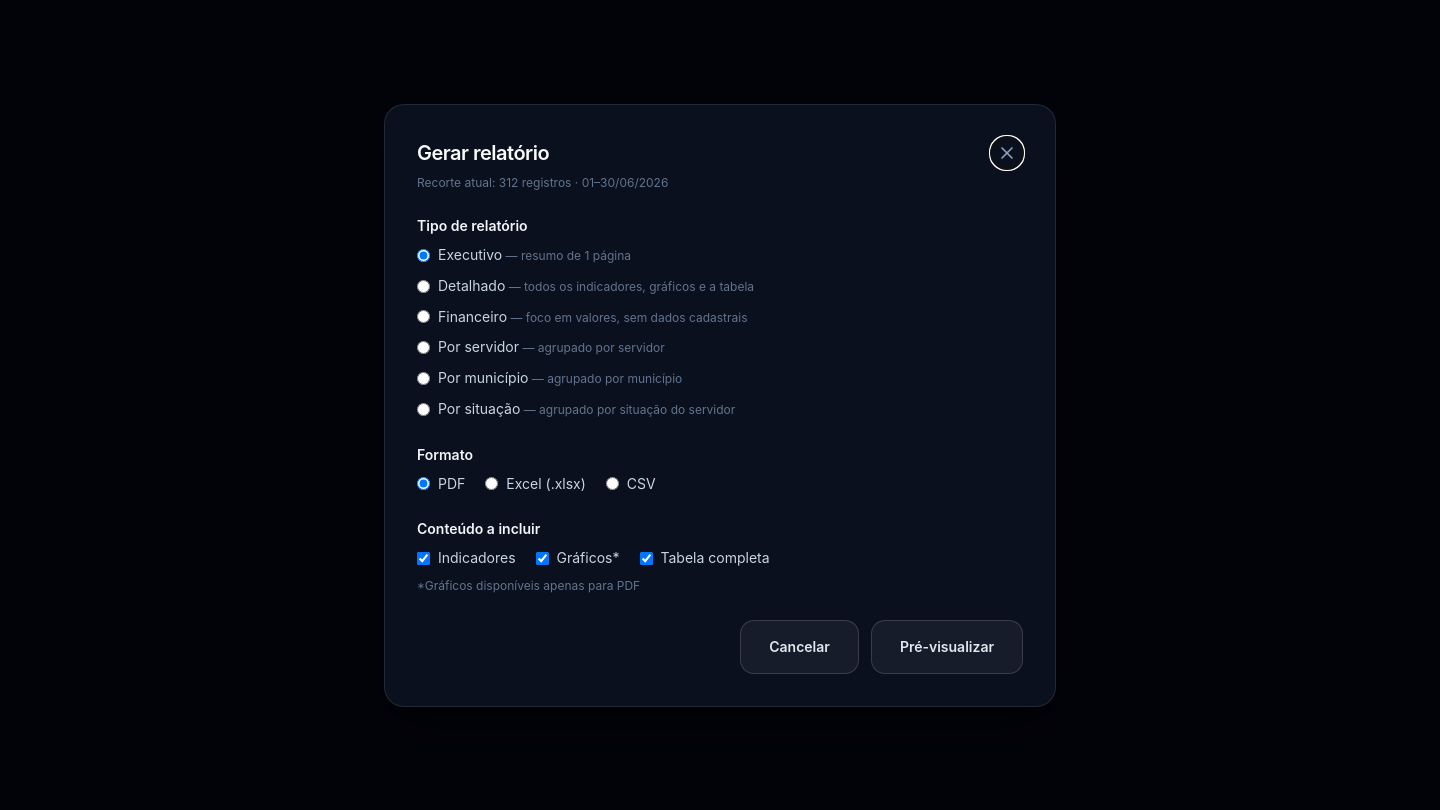
Scenario: ModalRelatorio › clicar num tipo disponível troca a seleção
Click the radio button labelled "Financeiro — foco em valores, sem dados cadastrais": click(424, 317) x1=417 y1=310 x2=430 y2=323
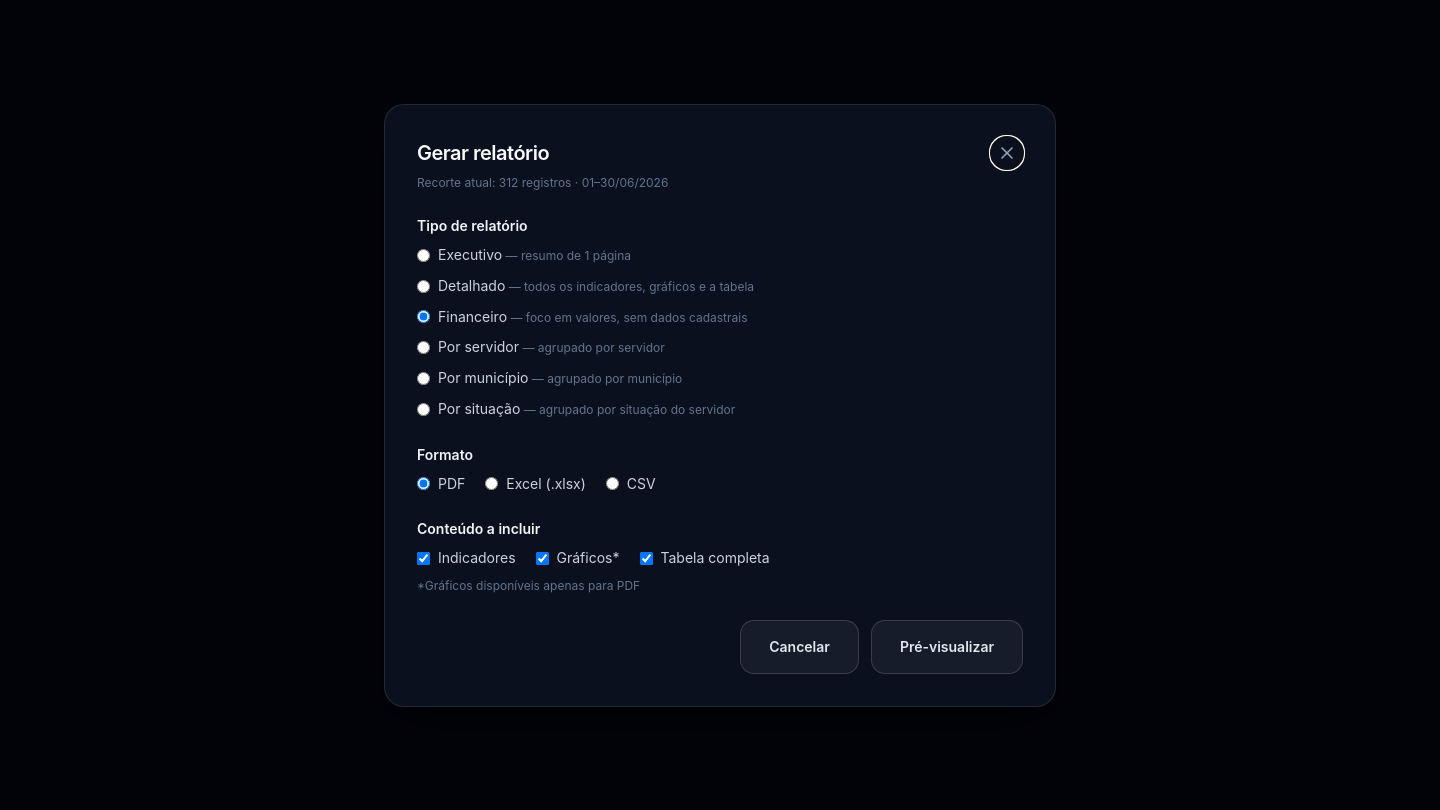
Expected: the radio button labelled "Financeiro — foco em valores, sem dados cadastrais" is checked, x1=417 y1=310 x2=430 y2=323
Expected: the radio button labelled "Executivo — resumo de 1 página" is not checked, x1=417 y1=249 x2=430 y2=262
